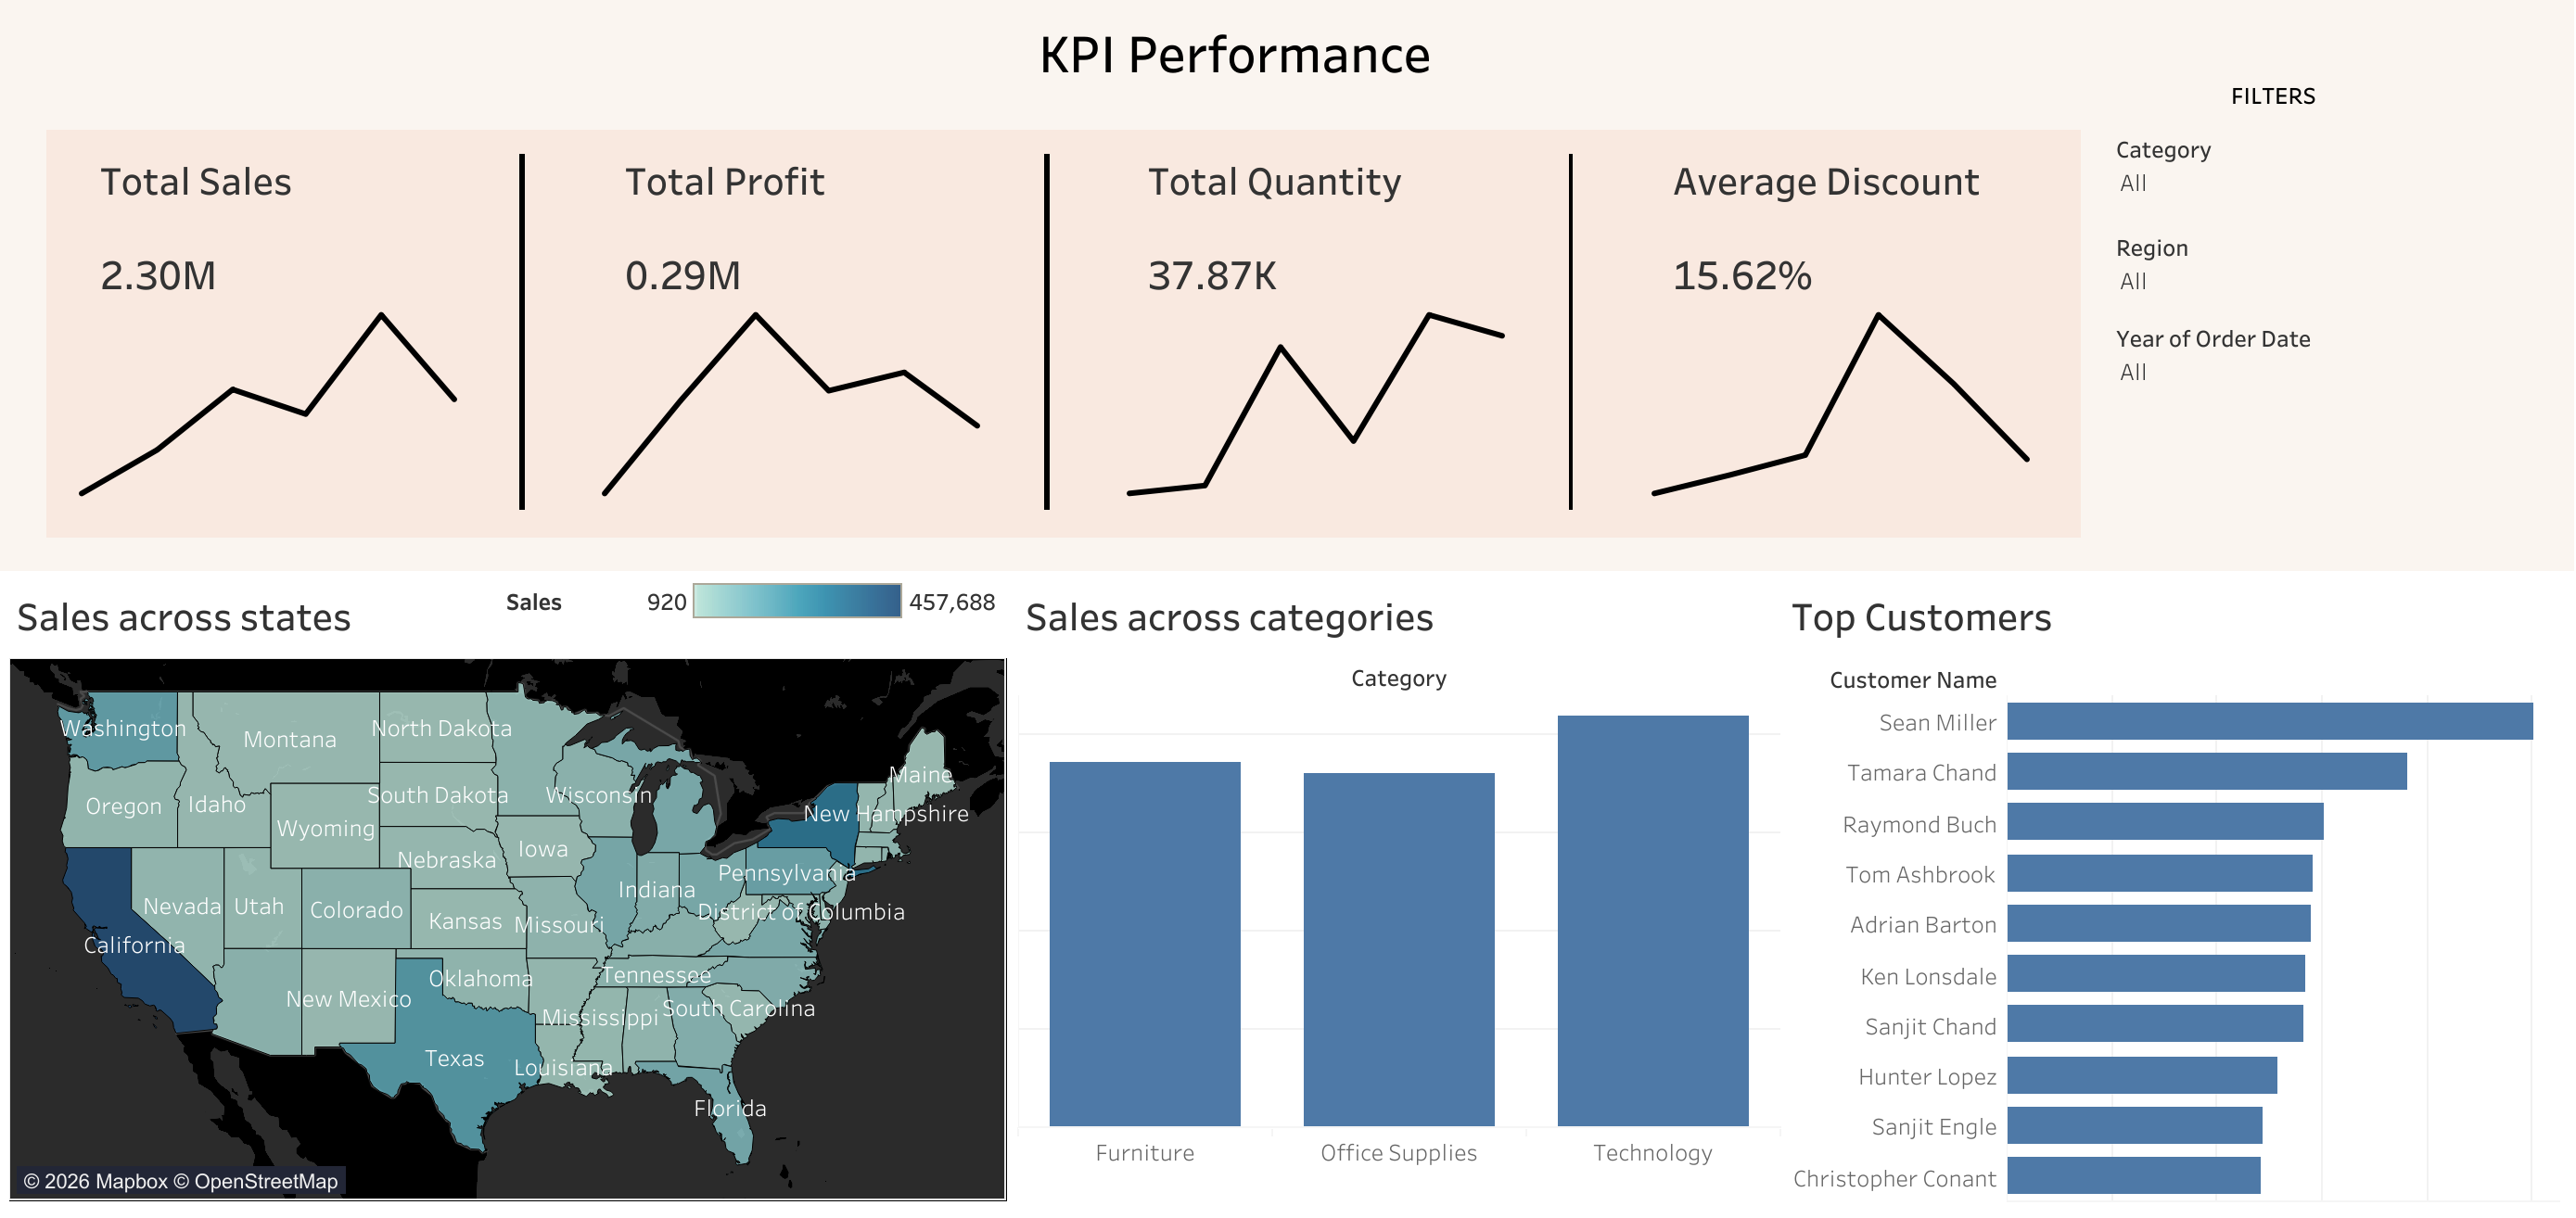

The page's visual inventory and layout, read from the dashboard file:
{"tool":"tableau","page":{"name":"KPI Performance","canvas":[1000,1000],"units":"permille","ordinal":0},"visuals":[{"type":"blank","box":[0,0,998.4,468.8]},{"type":"title","box":[6.5,10.4,987,54.7]},{"type":"text","box":[390.6,18.2,177.4,48.2]},{"type":"text","box":[841.3,57.3,81.4,39.1]},{"type":"blank","box":[17.9,106.8,789.3,333.3]},{"type":"filter","title":"Total Quantity","param":"[federated.0nf9aik1fk5n0m1balrr60vqxr53].[none:Category:nk]","box":[821,106.8,130.2,84.6]},{"type":"worksheet","title":"Total Sales","mark":"Automatic","box":[35.8,117.2,158.7,149.7]},{"type":"worksheet","title":"Total Profit","mark":"Automatic","box":[239.2,117.2,158.7,149.7]},{"type":"worksheet","title":"Total Quantity","mark":"Automatic","box":[442.6,117.2,158.7,149.7]},{"type":"worksheet","title":"Average Discount","mark":"Automatic","box":[646.1,117.2,158.7,149.7]},{"type":"blank","box":[201.8,126.3,1.6,291.7]},{"type":"blank","box":[405.2,126.3,1.6,291.7]},{"type":"blank","box":[608.6,126.3,1.6,291.7]},{"type":"filter","title":"Total Quantity","param":"[federated.0nf9aik1fk5n0m1balrr60vqxr53].[none:Region:nk]","box":[821,186.2,130.2,84.6]},{"type":"worksheet","title":"Sales Trend","mark":"Automatic","rows":["Sales"],"cols":["Order Date"],"box":[22.8,247.4,161.1,166.7]},{"type":"worksheet","title":"Profit Trend","mark":"Automatic","rows":["Profit"],"cols":["Order Date"],"box":[226.2,247.4,161.1,166.7]},{"type":"worksheet","title":"Quantity Trend","mark":"Automatic","rows":["Quantity"],"cols":["Order Date"],"box":[429.6,247.4,161.1,166.7]},{"type":"worksheet","title":"Discount Trend","mark":"Automatic","rows":["Discount"],"cols":["Order Date"],"box":[633,247.4,161.1,166.7]},{"type":"filter","title":"Total Quantity","param":"[federated.0nf9aik1fk5n0m1balrr60vqxr53].[yr:Order Date:ok]","box":[821,261.7,130.2,84.6]},{"type":"legend","title":"Sales across states","param":"[federated.0nf9aik1fk5n0m1balrr60vqxr53].[sum:Sales:qk]","box":[196.1,472.7,193.7,57.3]},{"type":"worksheet","title":"Sales across states","mark":"Multipolygon","box":[3.2,474,387.3,510.4]},{"type":"worksheet","title":"Sales across categories","mark":"Automatic","rows":["Sales"],"cols":["Category"],"box":[394.6,474,296.2,510.4]},{"type":"worksheet","title":"Top Customers","mark":"Automatic","rows":["Customer Name"],"cols":["Sales"],"box":[692.4,474,300.2,510.4]}]}

Visuals, with their boxes on the dashboard's canvas, which has no fixed pixel size, in thousandths of its width and height (x1, y1, x2, y2). These are canvas units, not pixel positions in the 2576x1218 screenshot, which may show the page scaled, cropped or inside an application window:
blank: [left=0, top=0, right=998, bottom=469]
title: [left=6, top=10, right=994, bottom=65]
text: [left=391, top=18, right=568, bottom=66]
text: [left=841, top=57, right=923, bottom=96]
blank: [left=18, top=107, right=807, bottom=440]
"Total Quantity" filter: [left=821, top=107, right=951, bottom=191]
"Total Sales" worksheet: [left=36, top=117, right=194, bottom=267]
"Total Profit" worksheet: [left=239, top=117, right=398, bottom=267]
"Total Quantity" worksheet: [left=443, top=117, right=601, bottom=267]
"Average Discount" worksheet: [left=646, top=117, right=805, bottom=267]
blank: [left=202, top=126, right=203, bottom=418]
blank: [left=405, top=126, right=407, bottom=418]
blank: [left=609, top=126, right=610, bottom=418]
"Total Quantity" filter: [left=821, top=186, right=951, bottom=271]
"Sales Trend" worksheet: [left=23, top=247, right=184, bottom=414]
"Profit Trend" worksheet: [left=226, top=247, right=387, bottom=414]
"Quantity Trend" worksheet: [left=430, top=247, right=591, bottom=414]
"Discount Trend" worksheet: [left=633, top=247, right=794, bottom=414]
"Total Quantity" filter: [left=821, top=262, right=951, bottom=346]
"Sales across states" legend: [left=196, top=473, right=390, bottom=530]
"Sales across states" worksheet (Multipolygon marks): [left=3, top=474, right=390, bottom=984]
"Sales across categories" worksheet: [left=395, top=474, right=691, bottom=984]
"Top Customers" worksheet: [left=692, top=474, right=993, bottom=984]
